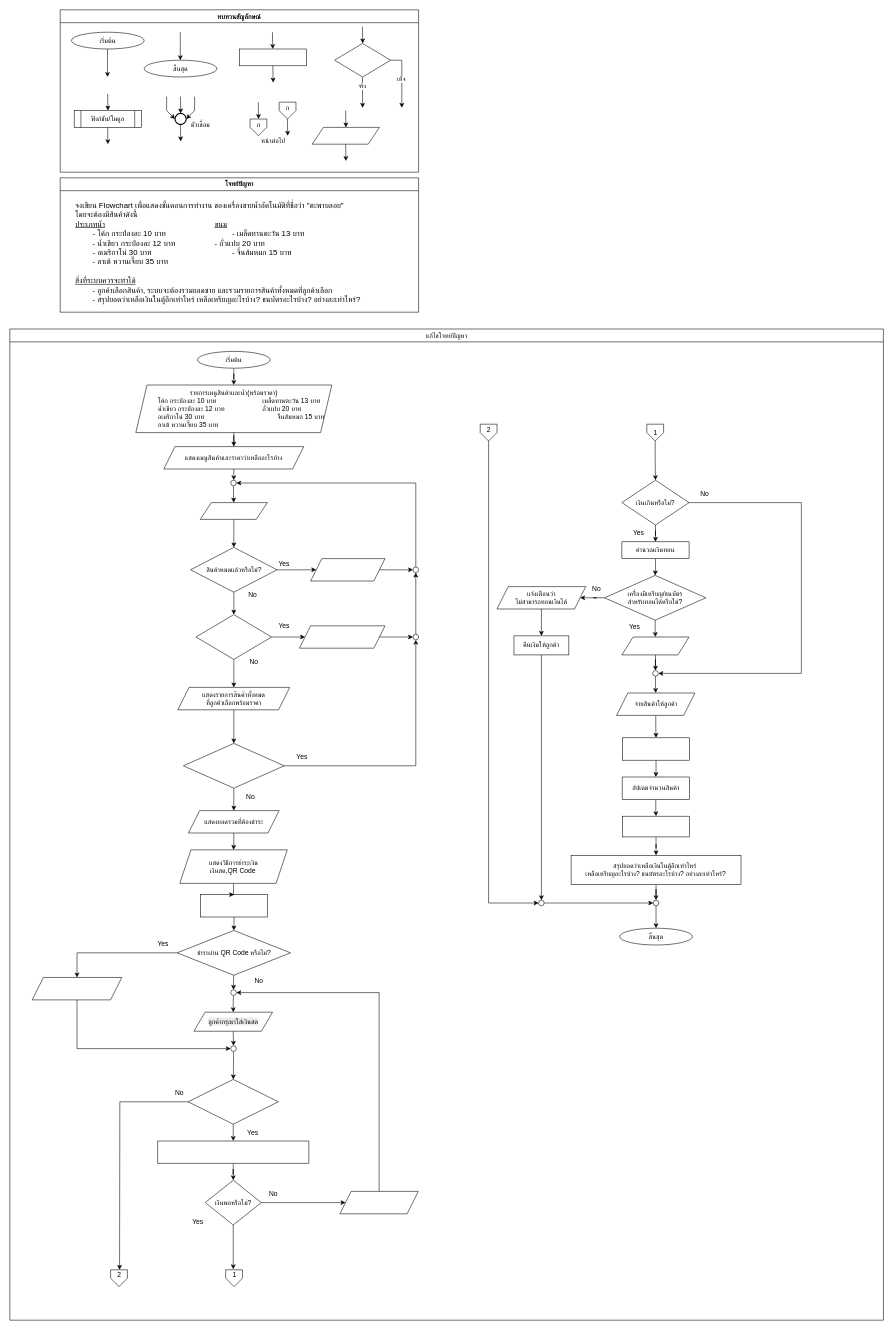
Image size: 893x1330. Some labels were removed from this diagram. The box of each missing label's shape, as (x1, y1, x2, y2) in pixels:
กระบวนการ: (239, 48, 307, 66)
จ่ายเงินทอน: (621, 636, 689, 655)
ประโยคเงื่อนไข: (334, 43, 391, 77)
รวมยอดขาย: (622, 816, 690, 837)
ลูกค้าจะเลือกเพิ่มหรือไม่?: (183, 743, 284, 788)
ลูกค้าจ่ายเงินแล้วหรือไม่?: (188, 1079, 278, 1124)
ลูกค้าเลือกวิธีชำระเงิน: (200, 894, 268, 917)
ลูกค้าเลือกสินค้า: (200, 502, 267, 519)
สินค้าหมดอายุหรือไม่?: (195, 614, 272, 659)
หักสินค้าในสต็อก: (622, 737, 690, 760)
เหรียญอะไรบ้าง? ธนบัตรอะไรบ้าง? อย่างละเท่าไหร่?: (157, 1140, 309, 1163)
แจ้งเตือนสินค้าหมด: (310, 558, 385, 581)
แจ้งเตือนสินค้าหมดอายุ: (299, 625, 385, 648)
แจ้งเตือนให้เพิ่มเงิน: (339, 1191, 418, 1214)
แสดง QR Code ชำระเงิน: (32, 977, 122, 1000)
แสดงผล/รับค่า: (312, 127, 379, 144)
